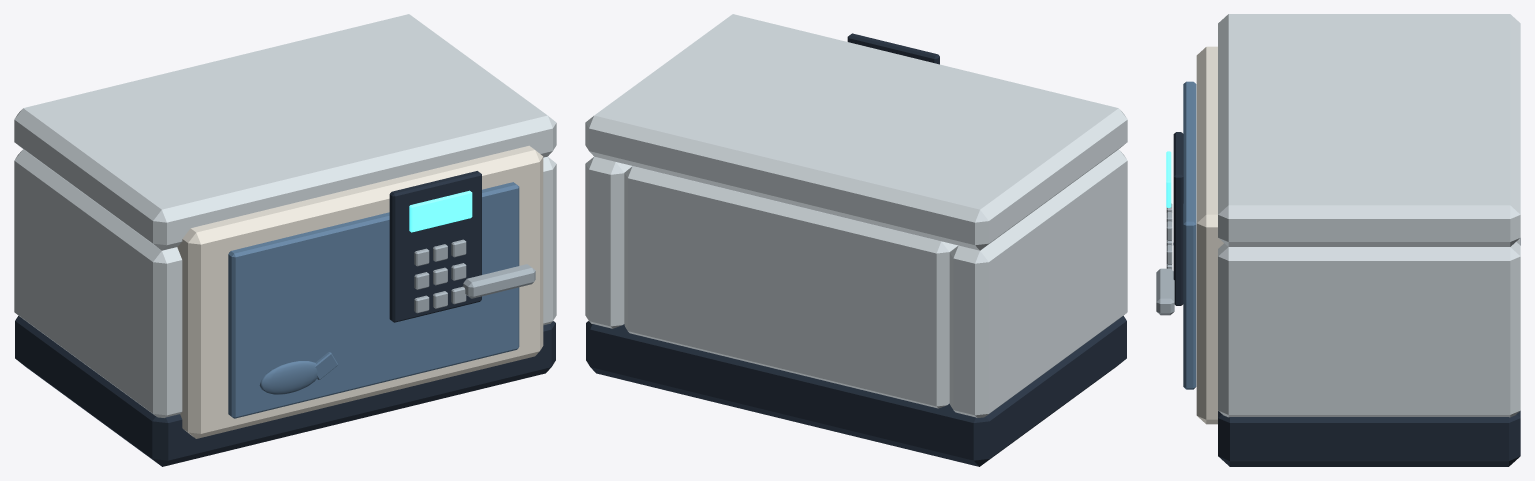
The model's file is safes_02.glb.
The picture shows the model from 3 angles, left to right: view 1: azimuth 30°, elevation 25°; view 2: azimuth 150°, elevation 25°; view 3: azimuth 270°, elevation 25°; orthographic projection.
Visible parts, largest first — view 1: Top, InsetPanel, Side (×2), DoorPanel, Base, KeypadPanel, TinyScreen, Handle, WhaleBody; view 2: Top, Back, Side (×2), Base, KeypadPanel; view 3: Top, Side, Base, DoorPanel, InsetPanel, KeypadPanel, Handle.
Part boxes in pixels (<box>): Top: <box>14,14,556,250</box>; InsetPanel: <box>228,182,519,418</box>; Side (×2): <box>14,149,556,417</box>; DoorPanel: <box>177,145,543,438</box>; Base: <box>15,316,555,466</box>; KeypadPanel: <box>389,171,481,322</box>; TinyScreen: <box>409,190,472,232</box>; Handle: <box>463,264,535,298</box>; WhaleBody: <box>259,361,317,394</box>; Top: <box>585,14,1127,250</box>; Back: <box>624,166,958,408</box>; Side (×2): <box>585,149,1127,417</box>; Base: <box>586,316,1126,466</box>; KeypadPanel: <box>847,33,939,64</box>; Top: <box>1218,14,1520,246</box>; Side: <box>1218,242,1520,417</box>; Base: <box>1218,238,1520,466</box>; DoorPanel: <box>1196,46,1223,424</box>; InsetPanel: <box>1183,81,1196,389</box>; KeypadPanel: <box>1173,132,1183,305</box>; Handle: <box>1156,268,1174,315</box>.
Size of the model in its own units: 0.72 by 0.44 by 0.554.
